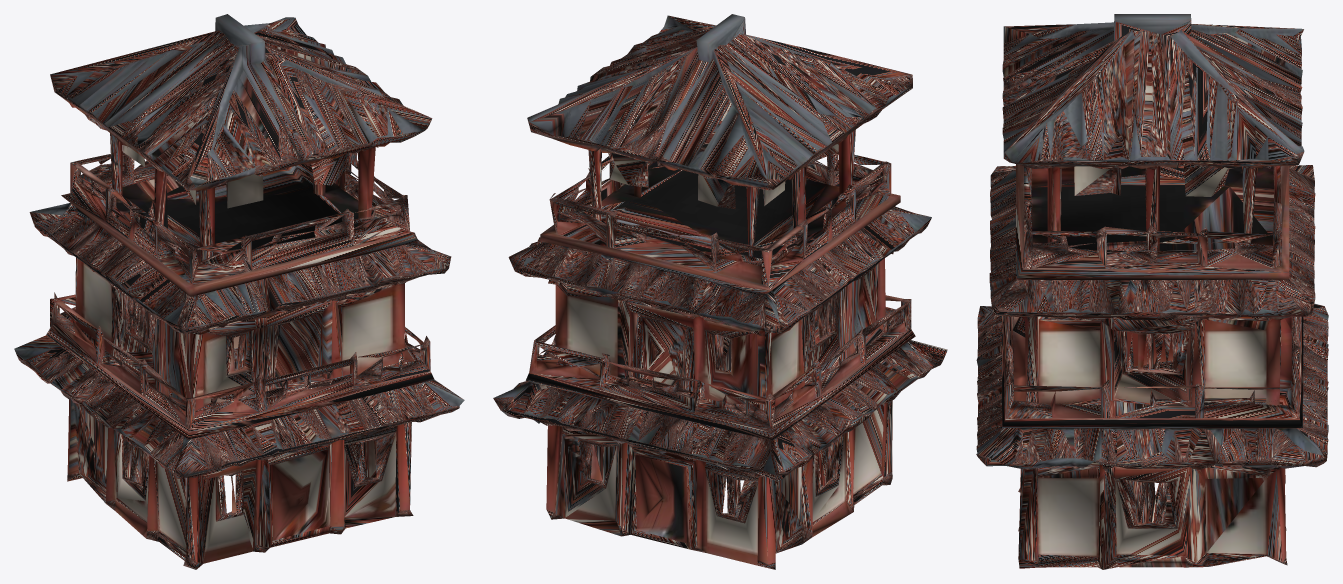
File: wanglou_lod1.glb
The picture shows the model from 3 angles, left to right: view 1: azimuth 30°, elevation 25°; view 2: azimuth 150°, elevation 25°; view 3: azimuth 270°, elevation 25°; orthographic projection. The views are drawn at different scales.
Parts seen in each view (by area): view 1: node_0; view 2: node_0; view 3: node_0.
Boxes of the visible parts, x1,y1,x2,y2 form: node_0: (14, 14, 464, 569); node_0: (493, 14, 947, 569); node_0: (976, 14, 1328, 569).
Size of the model in its own units: 10.34 by 15.94 by 10.28.
Materials: 1 (1 with a texture image).
